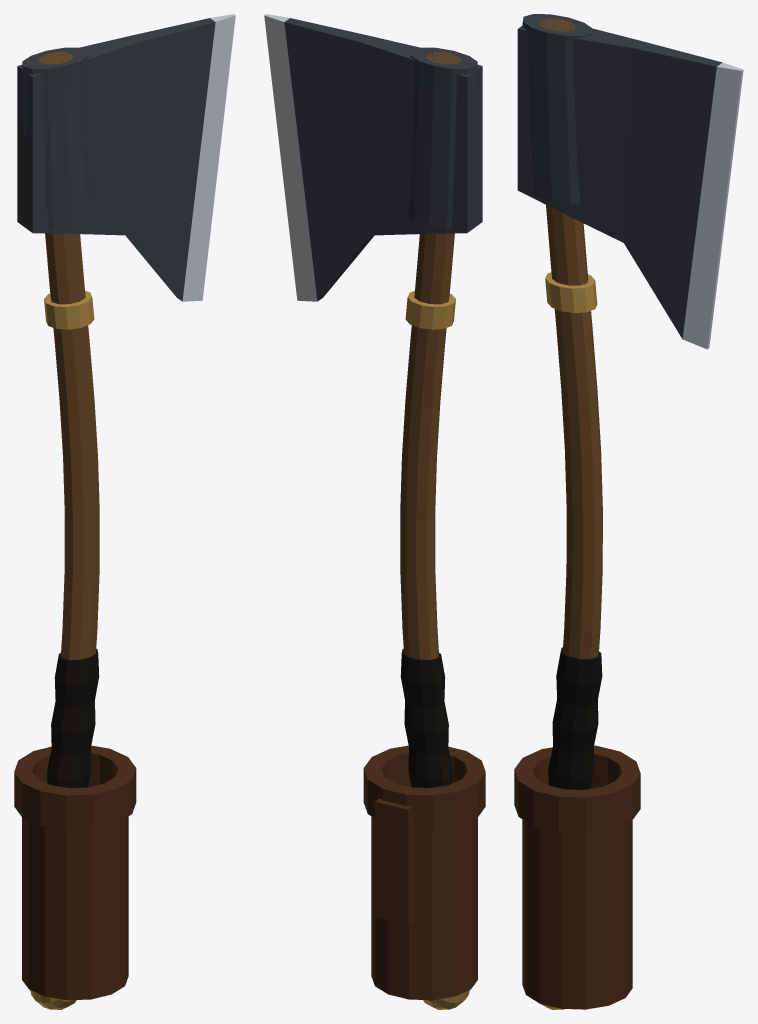
Rendered from wreckers-axe.glb.
3 views of the same model, side by side, from view 1: azimuth 30°, elevation 25°; view 2: azimuth 150°, elevation 25°; view 3: azimuth 330°, elevation 25° (orthographic). The views are drawn at different scales.
Visible parts, largest first — view 1: weapon, carrier; view 2: weapon, carrier; view 3: weapon, carrier.
Part boxes in pixels (x1,y1,x2,y2): weapon: (17,14,235,1009); carrier: (14,745,136,1000); weapon: (264,14,482,1009); carrier: (363,745,485,1000); weapon: (517,14,743,1009); carrier: (514,745,640,1009).
Bounding box in the file's own units: 0.1926 × 0.822 × 0.0988.
